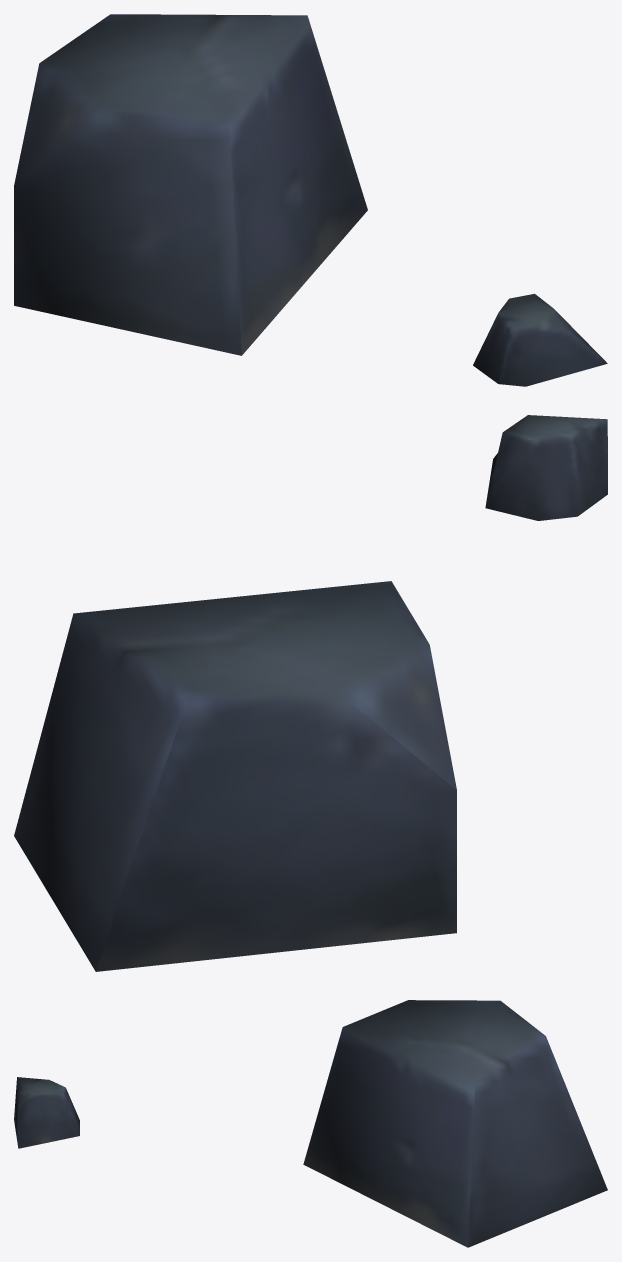
The model's file is Area_01_11.fbx.
3 views of the same model, one above another, from view 1: azimuth 30°, elevation 25°; view 2: azimuth 150°, elevation 25°; view 3: azimuth 270°, elevation 25° (orthographic). The views are drawn at different scales.
Parts seen in each view (by area): view 1: Area_01_11; view 2: Area_01_11; view 3: Area_01_11.
Boxes of the visible parts, <box> form: Area_01_11: <box>14,14,607,386</box>; Area_01_11: <box>14,415,607,971</box>; Area_01_11: <box>14,1000,607,1247</box>.
Bounding box in the file's own units: 262 × 141 × 531.
